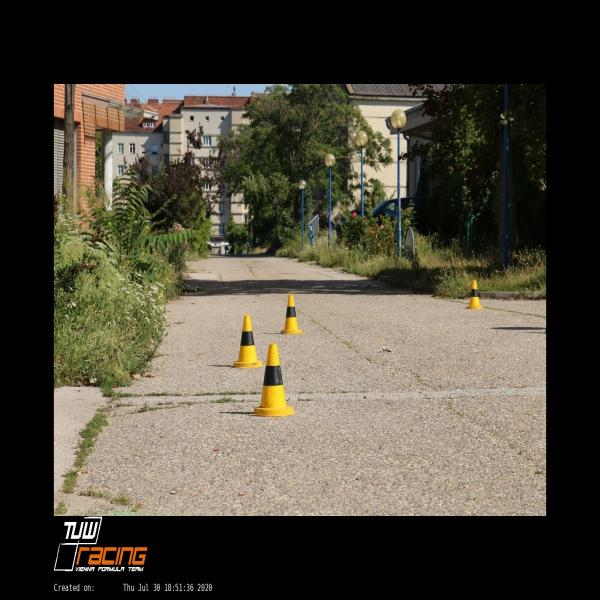yellow_cone: (248, 342, 298, 416), (233, 315, 265, 367), (279, 294, 305, 334), (466, 280, 482, 309)
